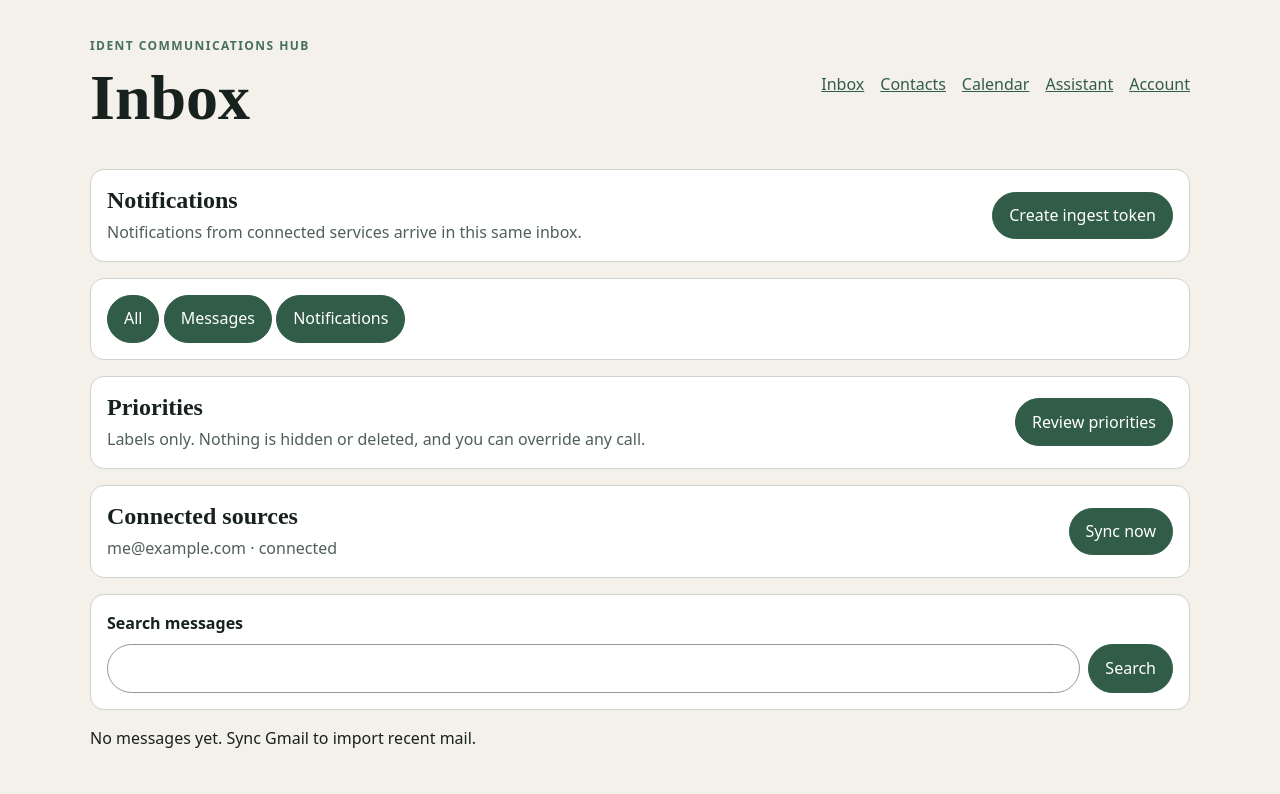
Test: InboxClient › reports a plain success when both sync and the contact refresh work
Click the button "Sync now" at (1121, 531), box [1068,508,1173,555]
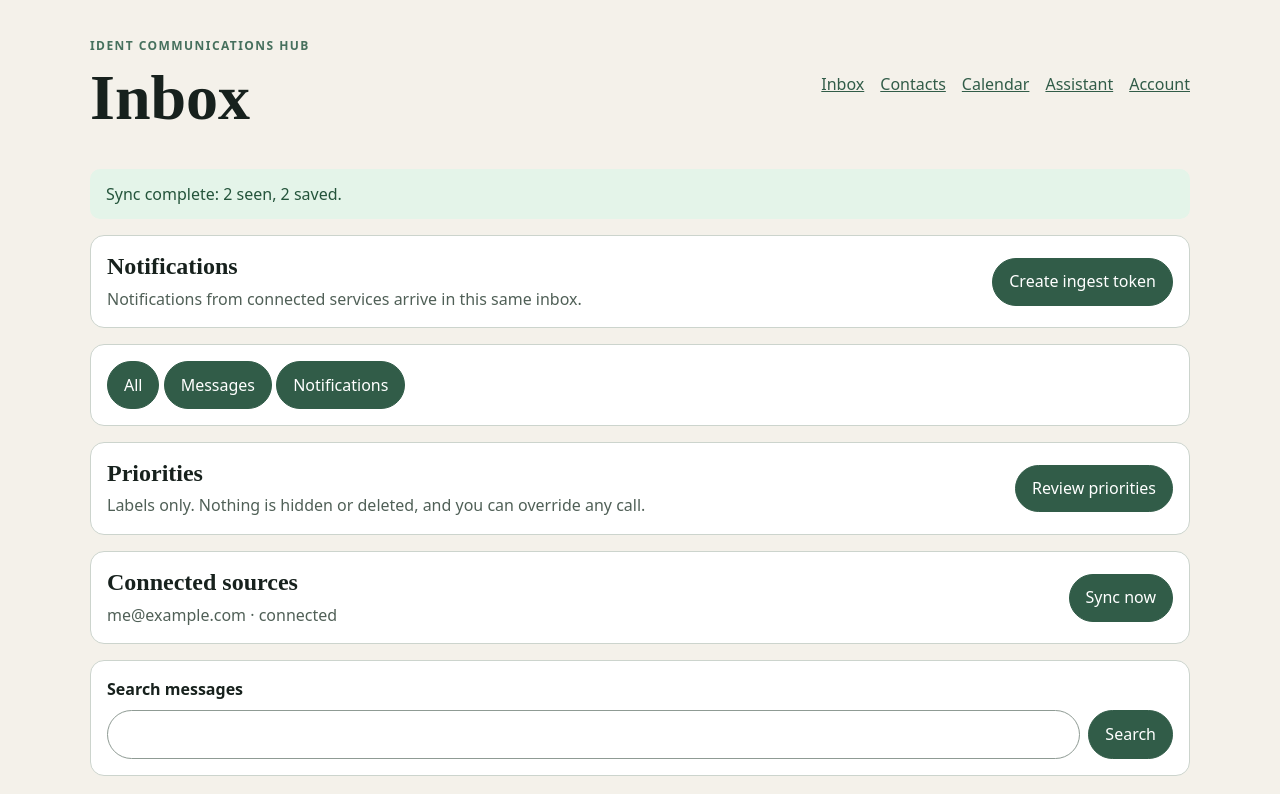
Check: the message does not show "could not be refreshed", box [90,169,1190,219]
Check: the message reads "Sync complete: 2 seen, 2 saved.", box [106,183,342,205]
